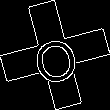O_N: (28, 25, 82, 85)
